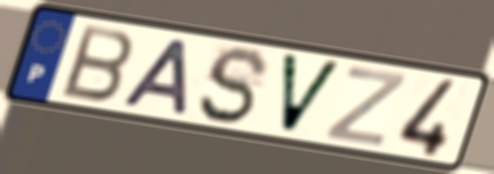4: (393, 75, 457, 159)
A: (117, 35, 193, 118)
B: (59, 22, 137, 105)
S: (194, 44, 273, 127)
V: (278, 50, 346, 138)
Z: (321, 64, 410, 149)
